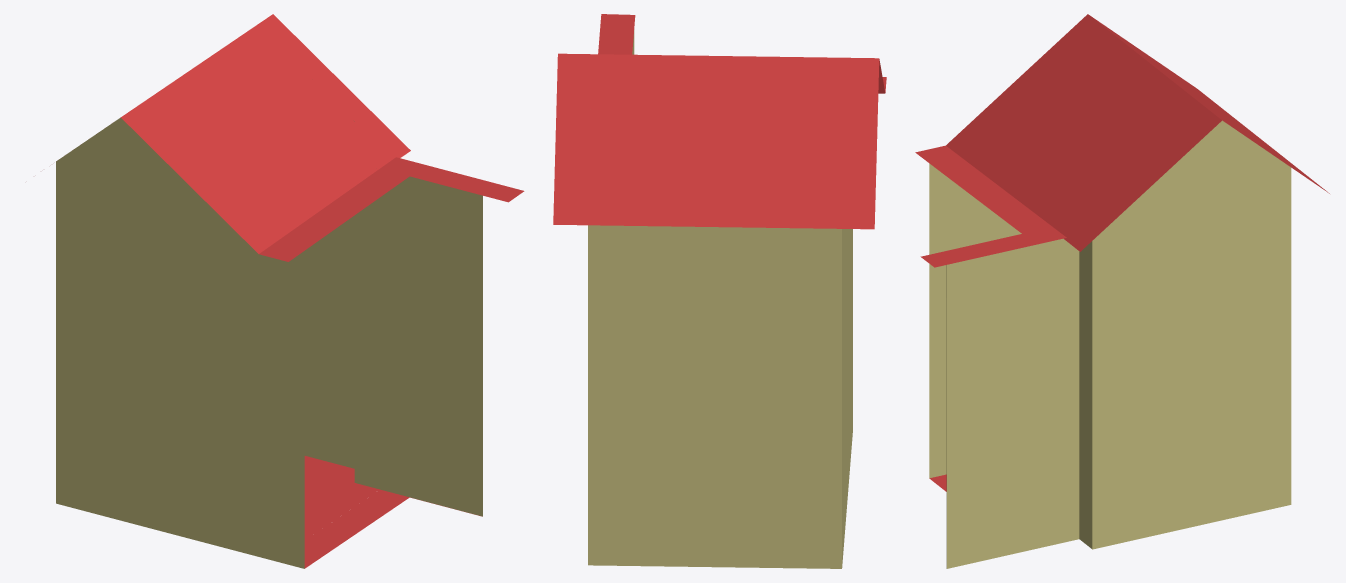
3 views of the same model, side by side, from view 1: azimuth 30°, elevation 25°; view 2: azimuth 150°, elevation 25°; view 3: azimuth 270°, elevation 25° (orthographic). The views are drawn at different scales.
Bounding box in the file's own units: 10.81 × 10.42 × 11.43.
